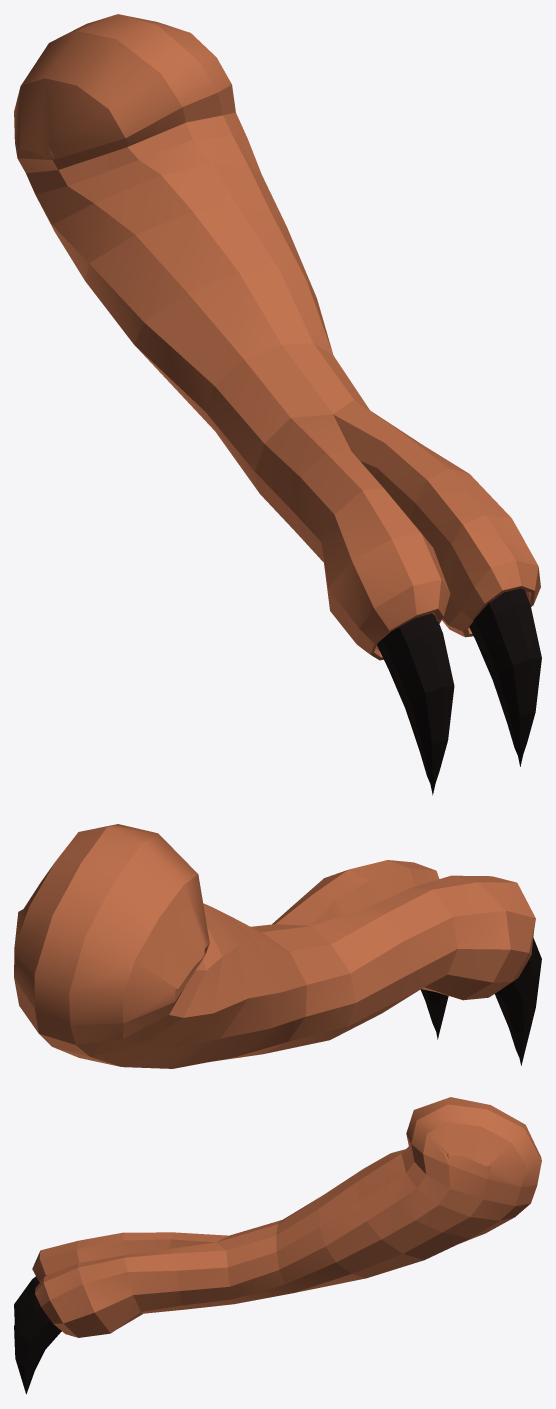
File: BrazoDer.obj
3 views of the same model, one above another, from view 1: azimuth 30°, elevation 25°; view 2: azimuth 150°, elevation 25°; view 3: azimuth 270°, elevation 25° (orthographic). The views are drawn at different scales.
Parts seen in each view (by area): view 1: polySurface23; view 2: polySurface23; view 3: polySurface23.
Part boxes in pixels (bbox=[...]): polySurface23: bbox=[14, 14, 541, 795]; polySurface23: bbox=[14, 824, 541, 1068]; polySurface23: bbox=[14, 1097, 541, 1394].
Size of the model in its own units: 0.4275 by 0.9982 by 1.63.
2 materials, 2 textured.
